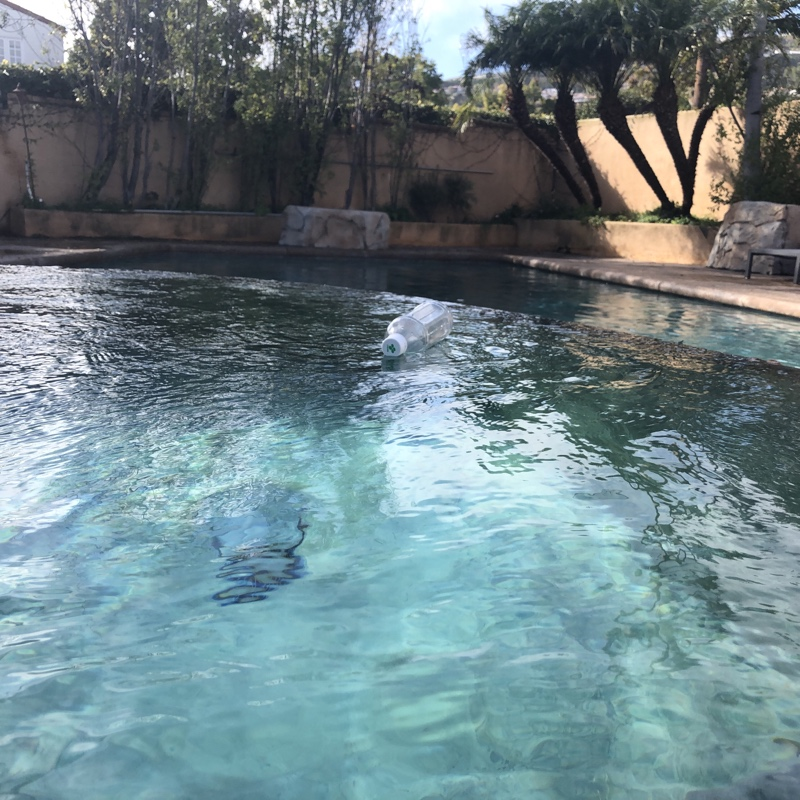Plastic Bottle: (377, 297, 455, 363)
